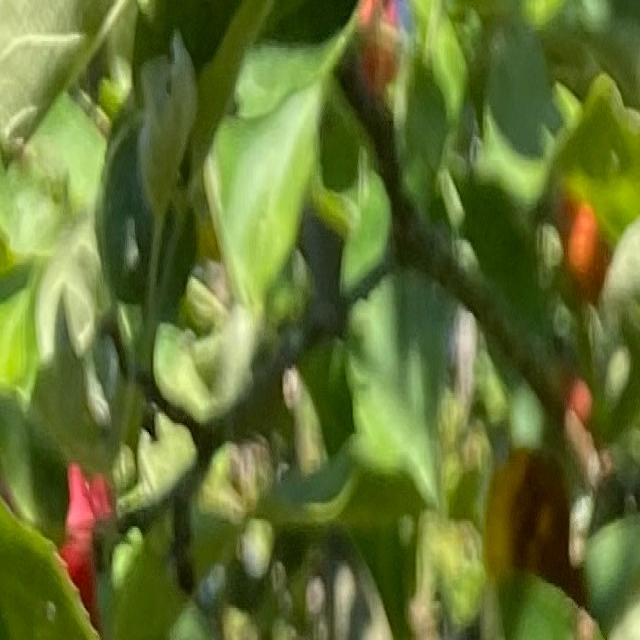100-_ripeness: (54, 466, 114, 620), (555, 186, 614, 308), (356, 0, 404, 96)
